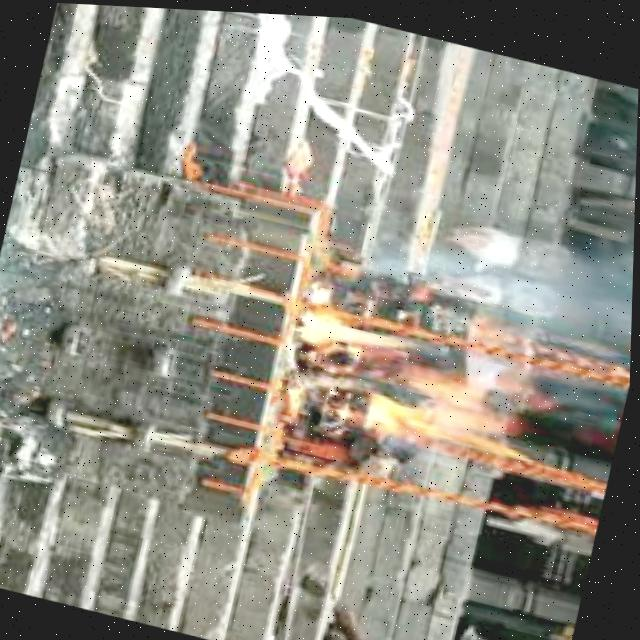Fire: (359, 338, 556, 480)
Smoke: (290, 289, 424, 370)
